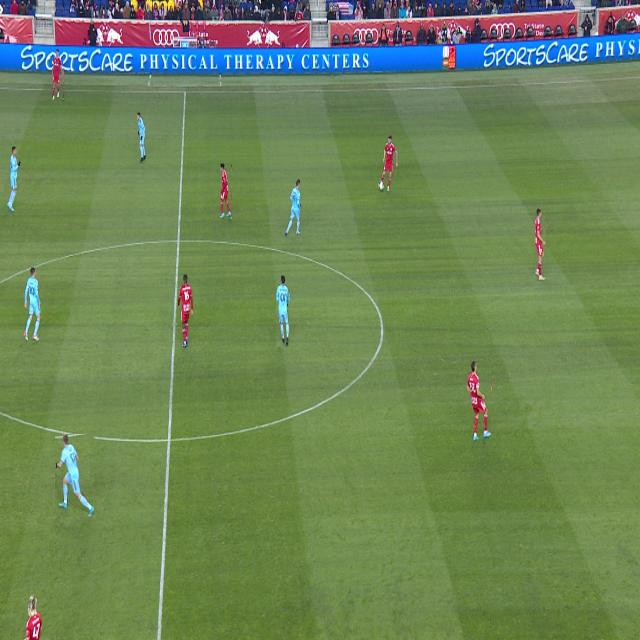football: (380, 183, 383, 191)
player: (56, 434, 94, 517), (468, 360, 491, 441), (24, 267, 41, 341), (378, 135, 398, 192), (178, 275, 193, 347), (7, 146, 21, 211), (285, 179, 301, 234), (277, 276, 289, 347), (24, 594, 42, 640), (535, 208, 546, 280), (221, 163, 231, 219), (53, 49, 63, 100), (137, 113, 146, 163)
